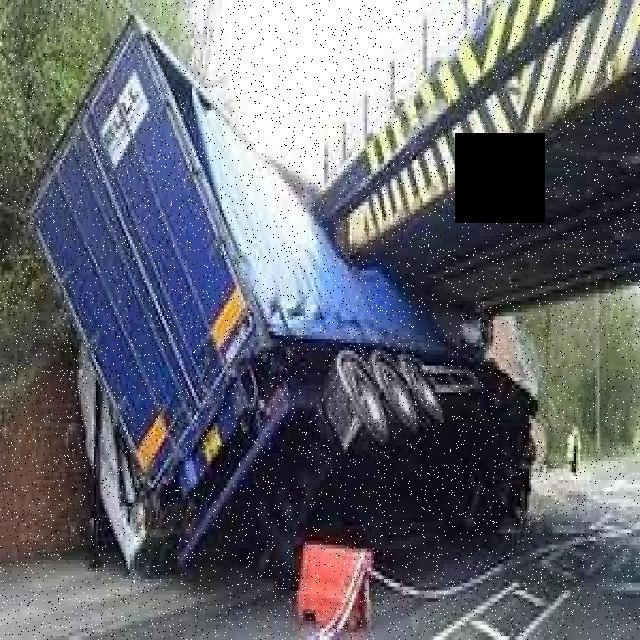severe: (21, 3, 538, 590)
